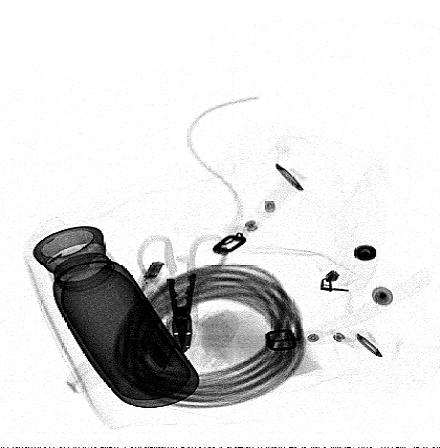Scissors: (136, 233, 227, 356)
